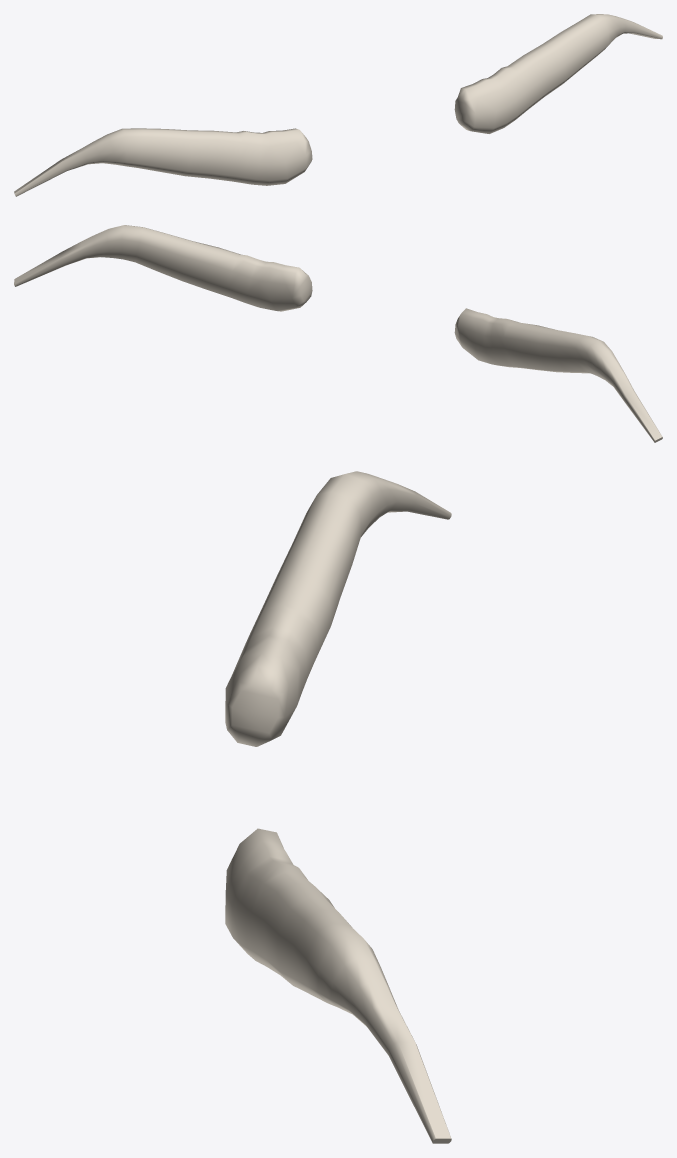
Rendered from Eyebrows_08_07.fbx.
The picture shows the model from 3 angles, top to bottom: view 1: azimuth 30°, elevation 25°; view 2: azimuth 150°, elevation 25°; view 3: azimuth 270°, elevation 25°; orthographic projection. The views are drawn at different scales.
Visible parts, largest first — view 1: Eyebrows_08_07; view 2: Eyebrows_08_07; view 3: Eyebrows_08_07.
Part boxes in pixels (x1,y1,x2,y2): Eyebrows_08_07: (14, 14, 662, 196); Eyebrows_08_07: (14, 225, 662, 442); Eyebrows_08_07: (225, 471, 451, 1143).
Bounding box in the file's own units: 19.15 × 1.96 × 2.9.
